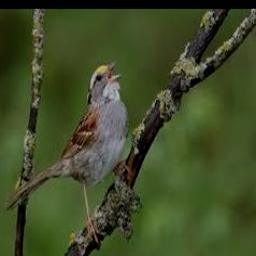Sparrow: (6, 60, 129, 247)
